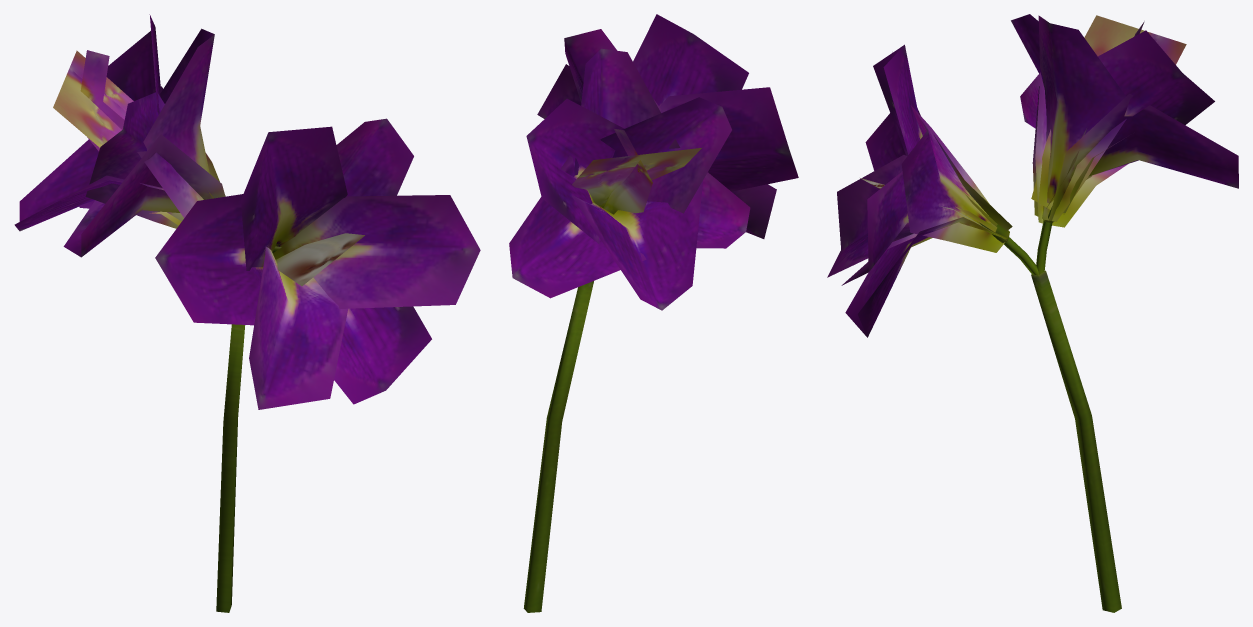
File: Amaryllis_baby_short_purple.glb
3 views of the same model, side by side, from view 1: azimuth 30°, elevation 25°; view 2: azimuth 150°, elevation 25°; view 3: azimuth 270°, elevation 25° (orthographic). The views are drawn at different scales.
Parts seen in each view (by area): view 1: baby; view 2: baby; view 3: baby.
Part boxes in pixels (x1=…): baby: x1=14, y1=14, x2=480, y2=612; baby: x1=509, y1=14, x2=798, y2=612; baby: x1=827, y1=14, x2=1238, y2=612.
Bounding box in the file's own units: 0.6819 × 1.24 × 0.8184.
Materials: 1 (1 with a texture image).
